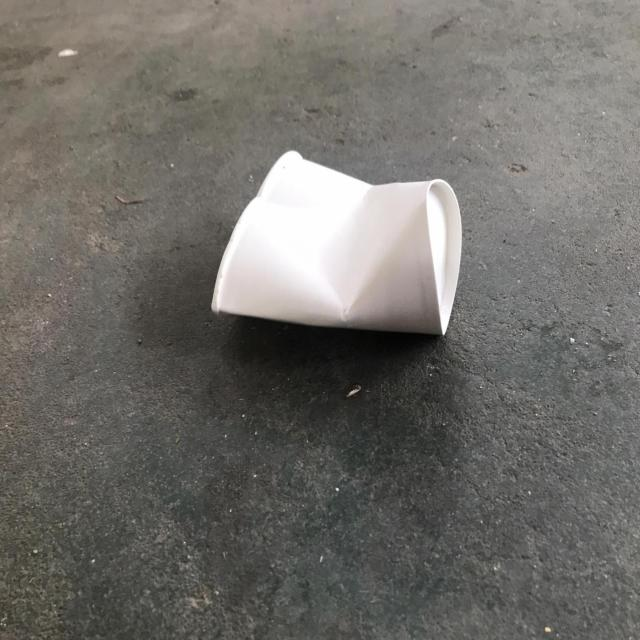paperpack: (212, 150, 462, 334)
